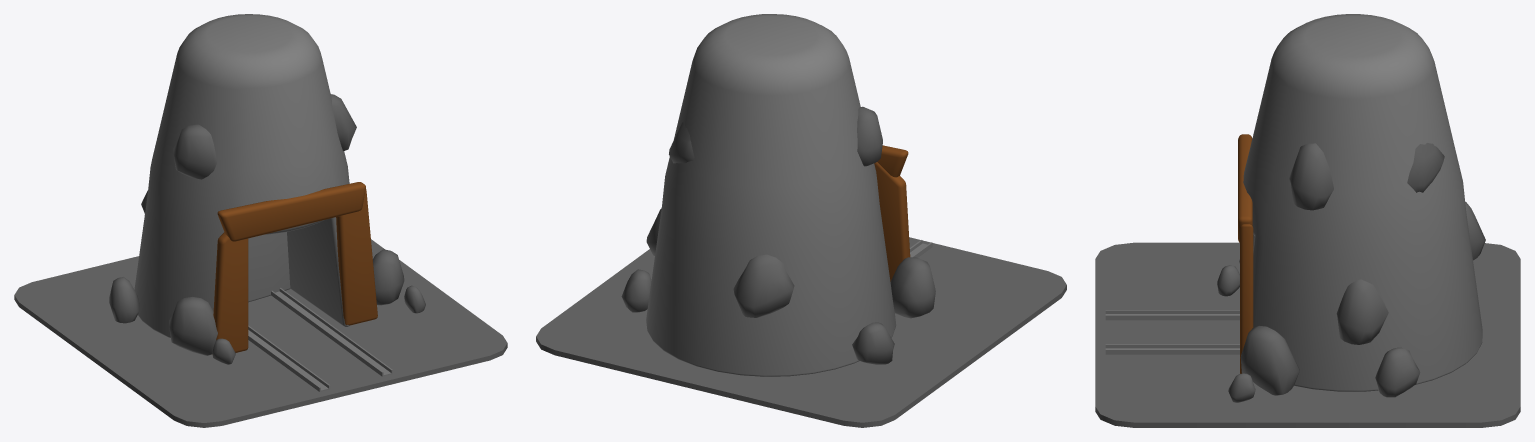
Rendered from Mine 1.fbx.
The picture shows the model from 3 angles, left to right: view 1: azimuth 30°, elevation 25°; view 2: azimuth 150°, elevation 25°; view 3: azimuth 270°, elevation 25°; orthographic projection. The views are drawn at different scales.
Visible parts, largest first — view 1: Cube.022; view 2: Cube.022; view 3: Cube.022.
Part boxes in pixels (bbox=[...]): Cube.022: bbox=[14, 14, 507, 427]; Cube.022: bbox=[536, 14, 1066, 427]; Cube.022: bbox=[1095, 14, 1520, 427].
Bounding box in the file's own units: 261 × 207 × 261.
